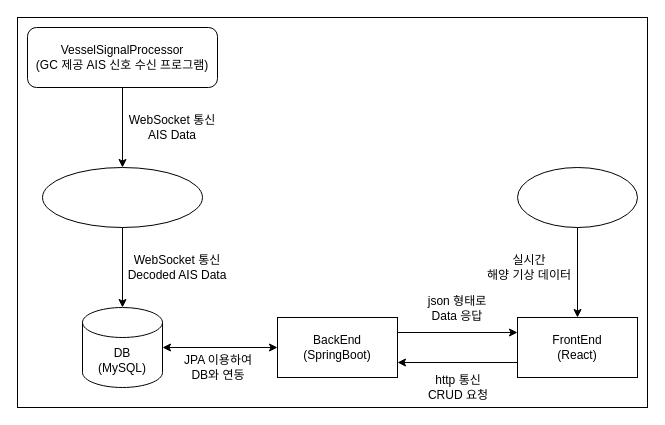
The diagram is 665 pixels wide and 425 high, and some of its shapes have lost their labels. The shapes that lost their labels are listed below. From the top down, each one's centre as x and y in pixels, then its label:
pixel 122 197: AIS-data-decoding (Node Express)
pixel 577 197: 해양 수산부 Open API
